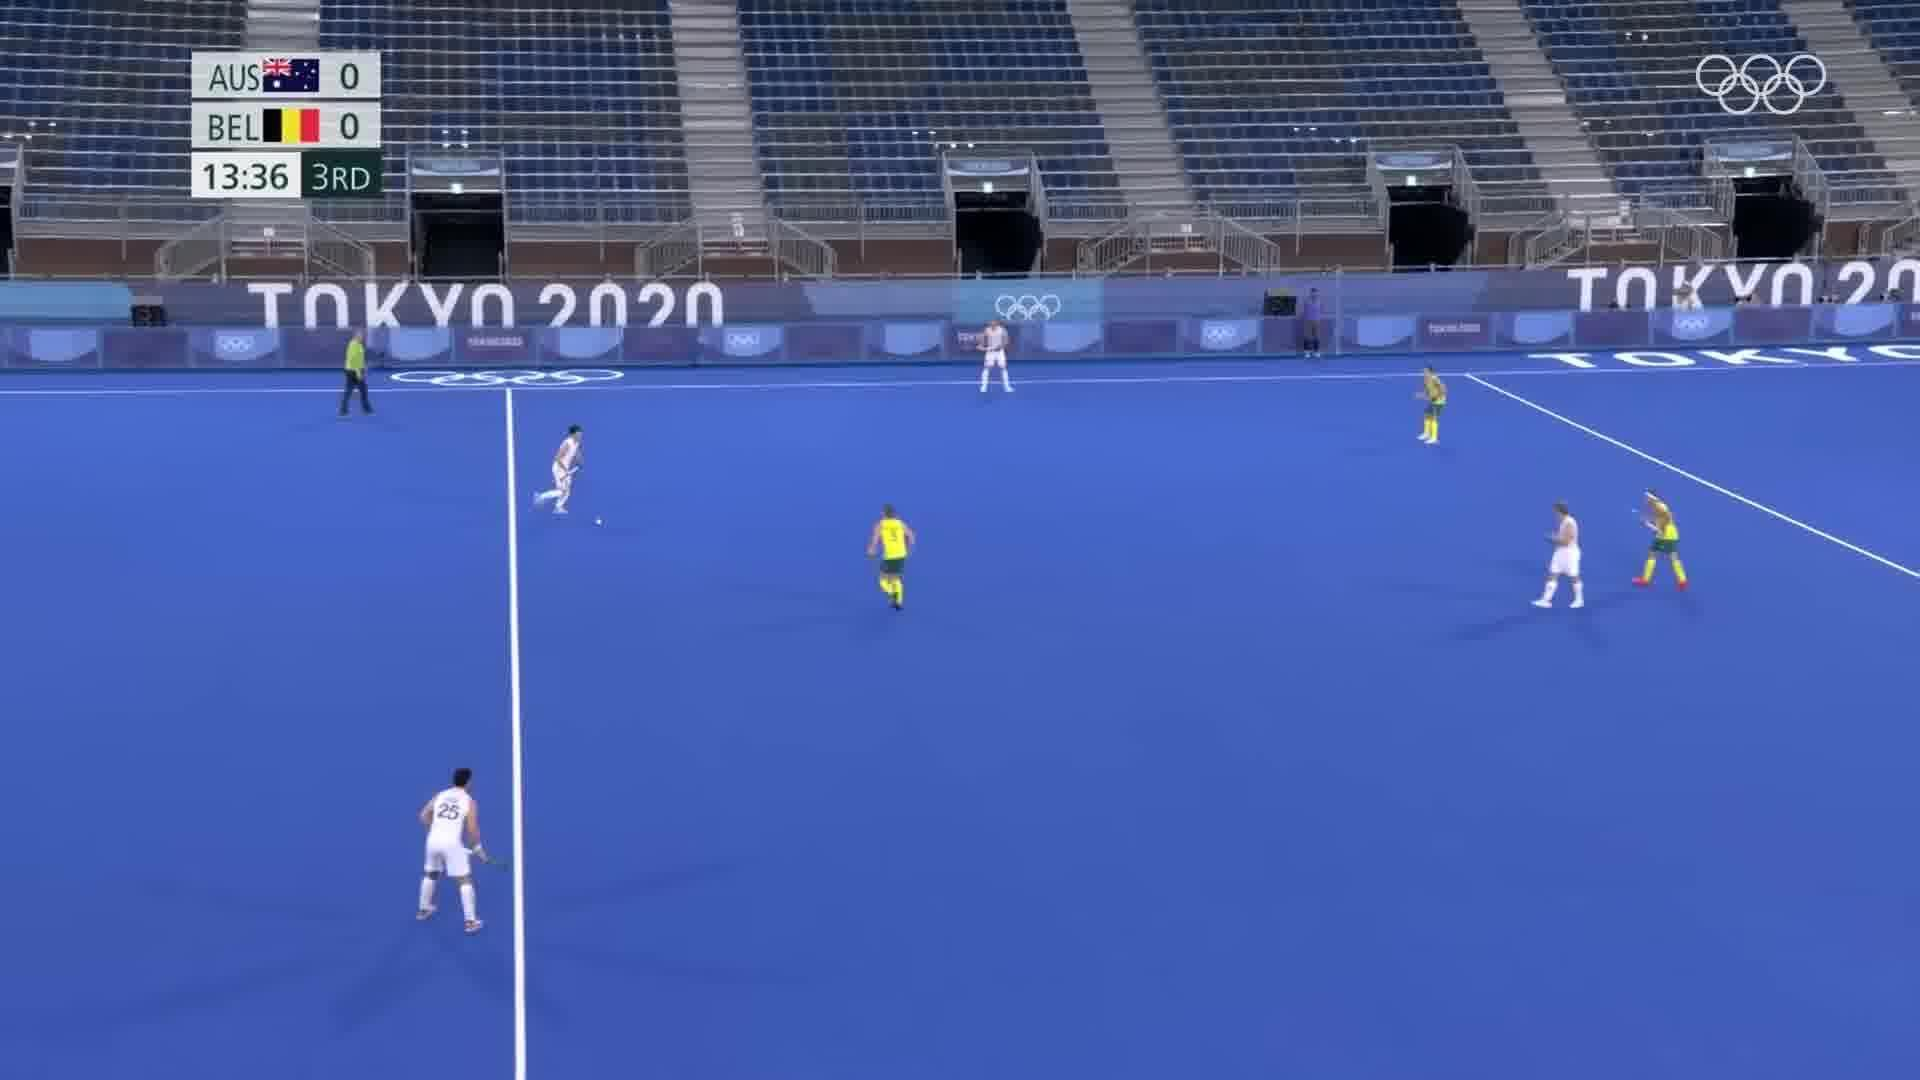ball: (591, 514, 605, 531)
